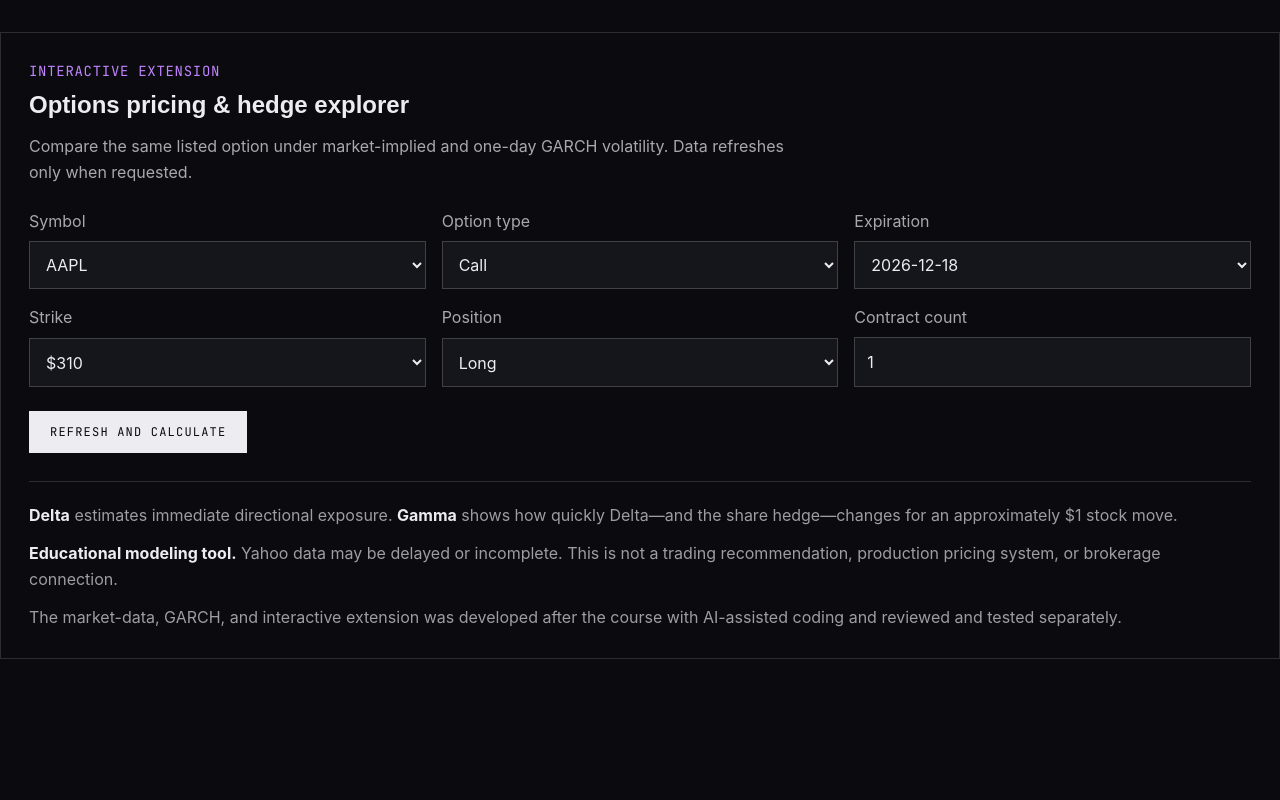
Test: marks results outdated when a position input changes
Step 1. Click the button "Refresh and calculate" → (138, 432), box [29,411,247,453]
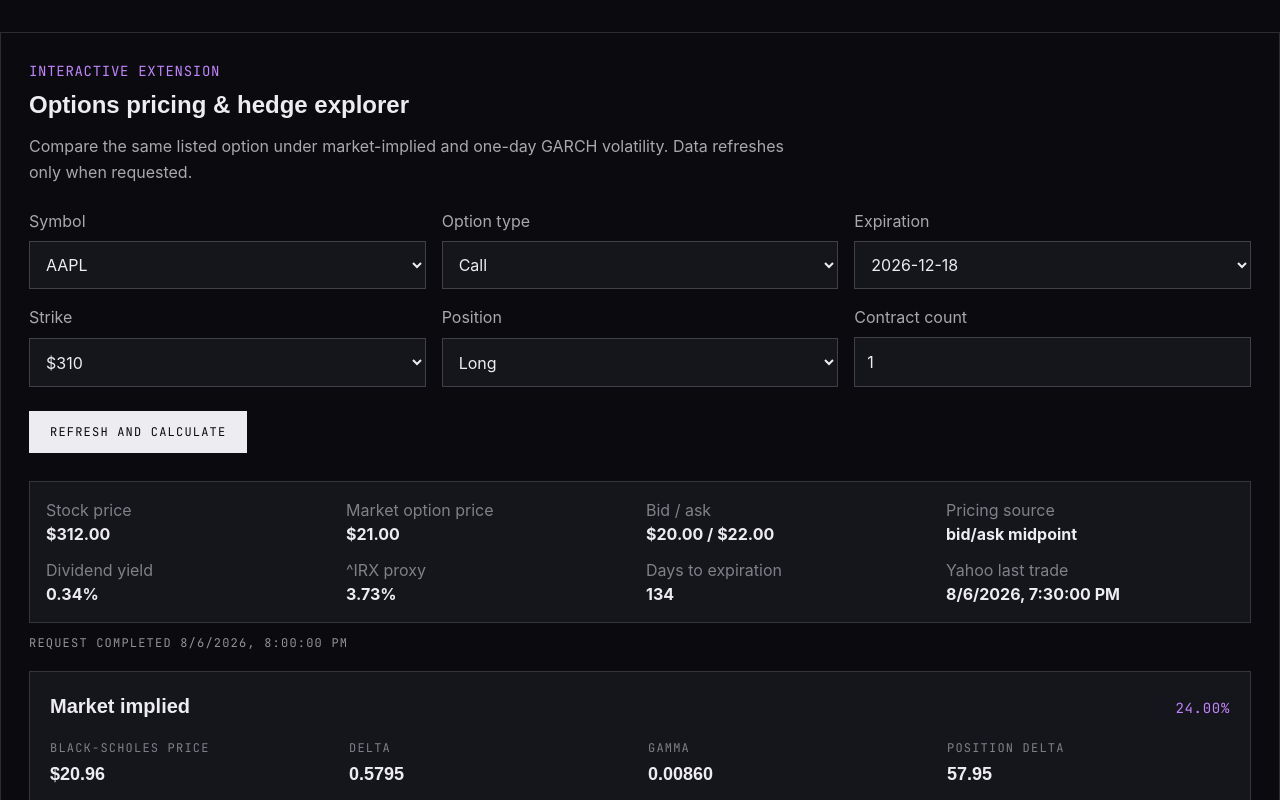
Step 2. Select "Short" in the dropdown named "Position" → (640, 362), box [442,338,838,387]
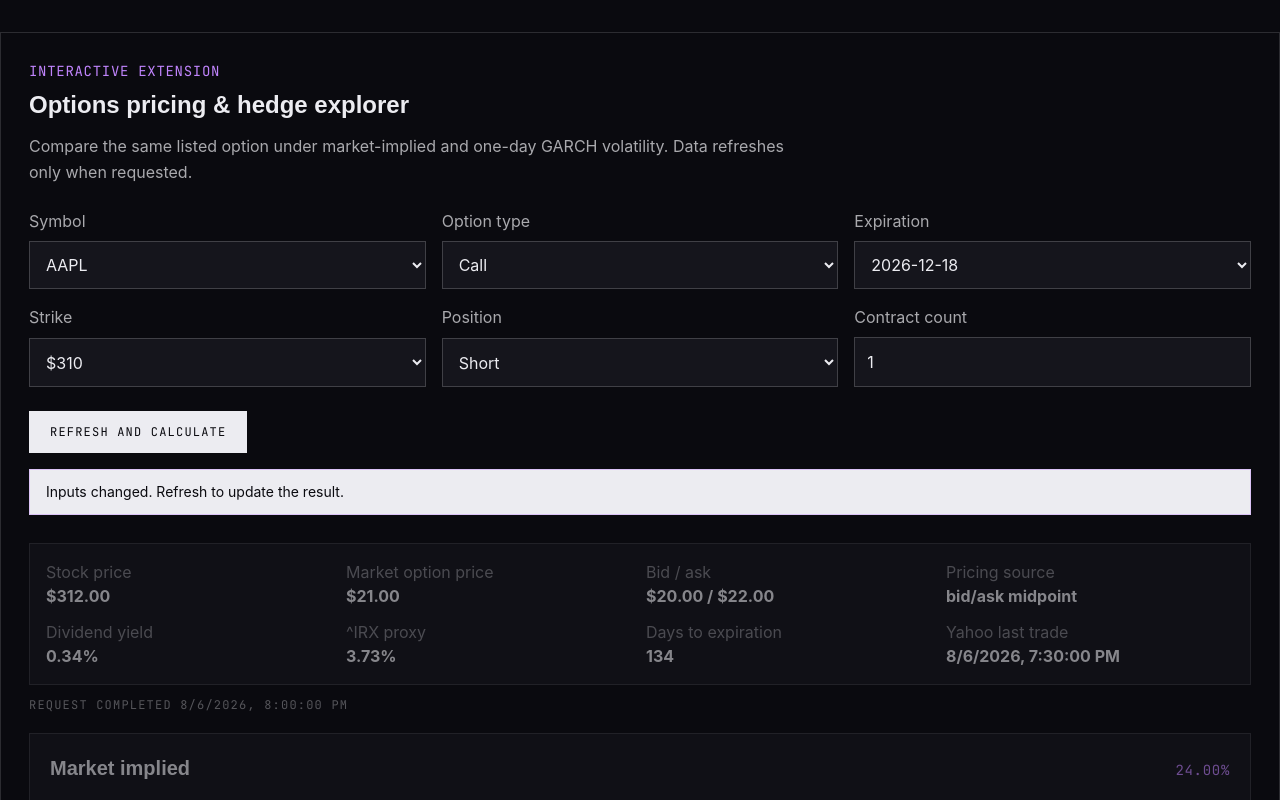
Check: the text "Inputs changed. Refresh to update the result." is shown, box [29,469,1251,515]
